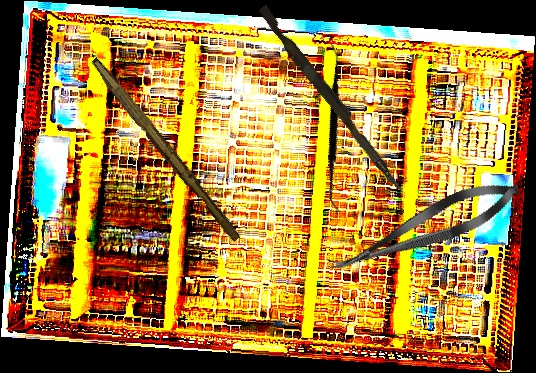Micro Scissor: (321, 169, 527, 288)
Pusher: (253, 4, 411, 194)
Scalpel Handle: (84, 56, 246, 244)
Spatula Surgical: (260, 41, 410, 214)
